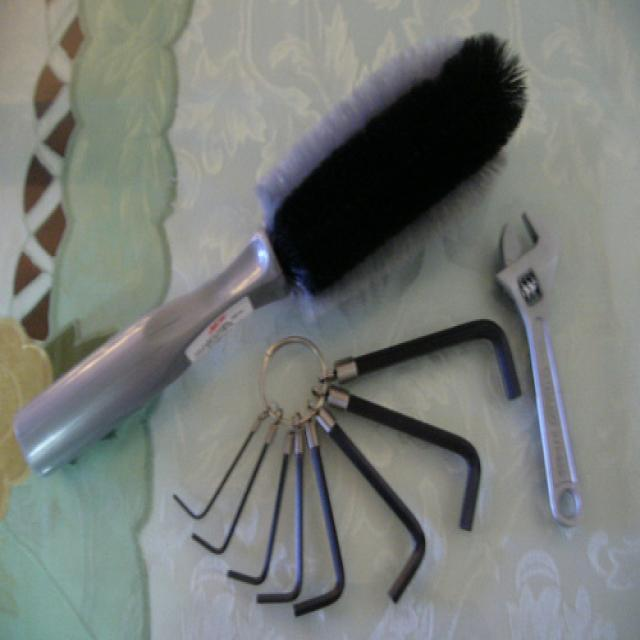wrench: (492, 200, 590, 546)
